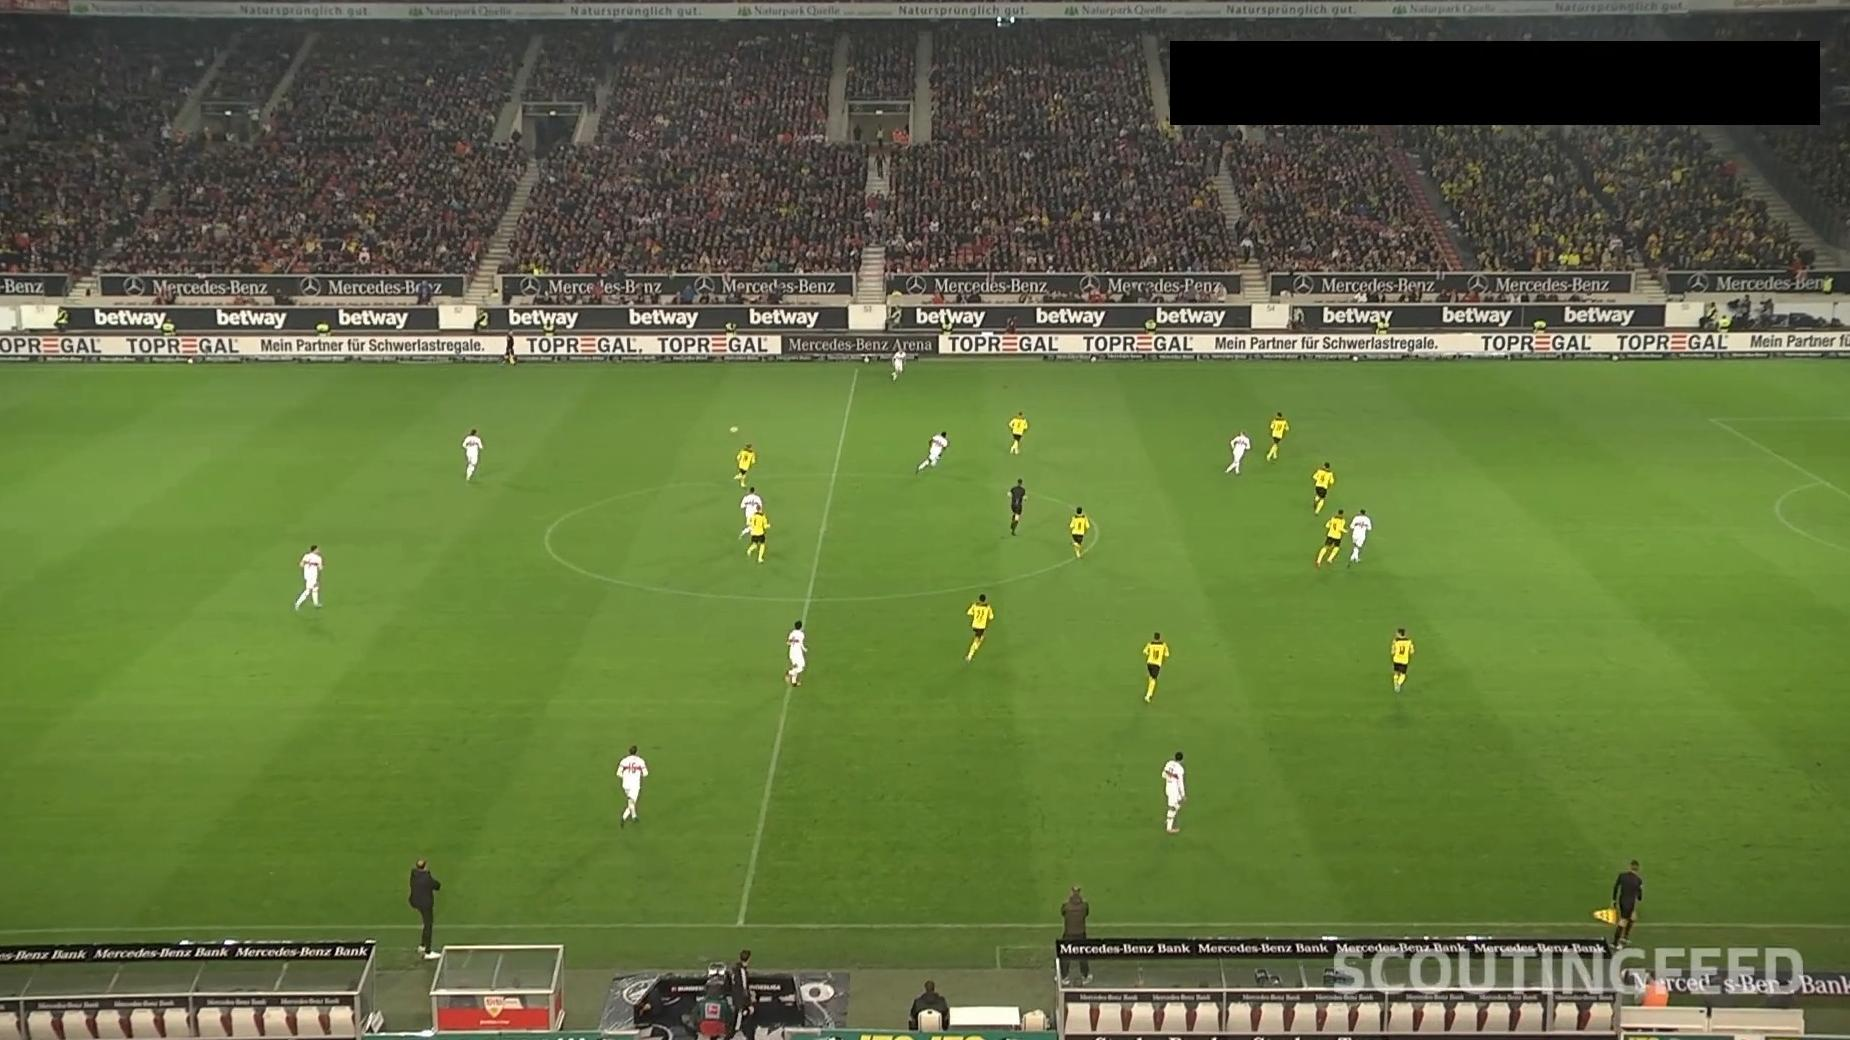ball: (729, 424, 739, 434)
